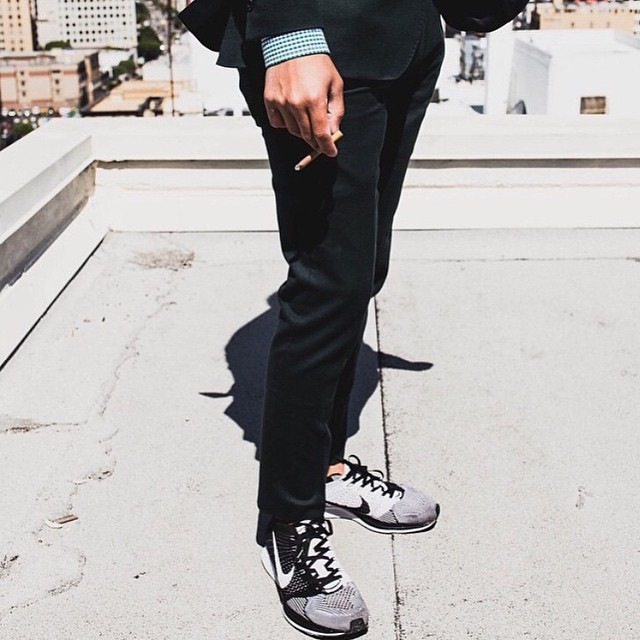sneaker: (235, 503, 390, 640), (306, 440, 448, 551)
